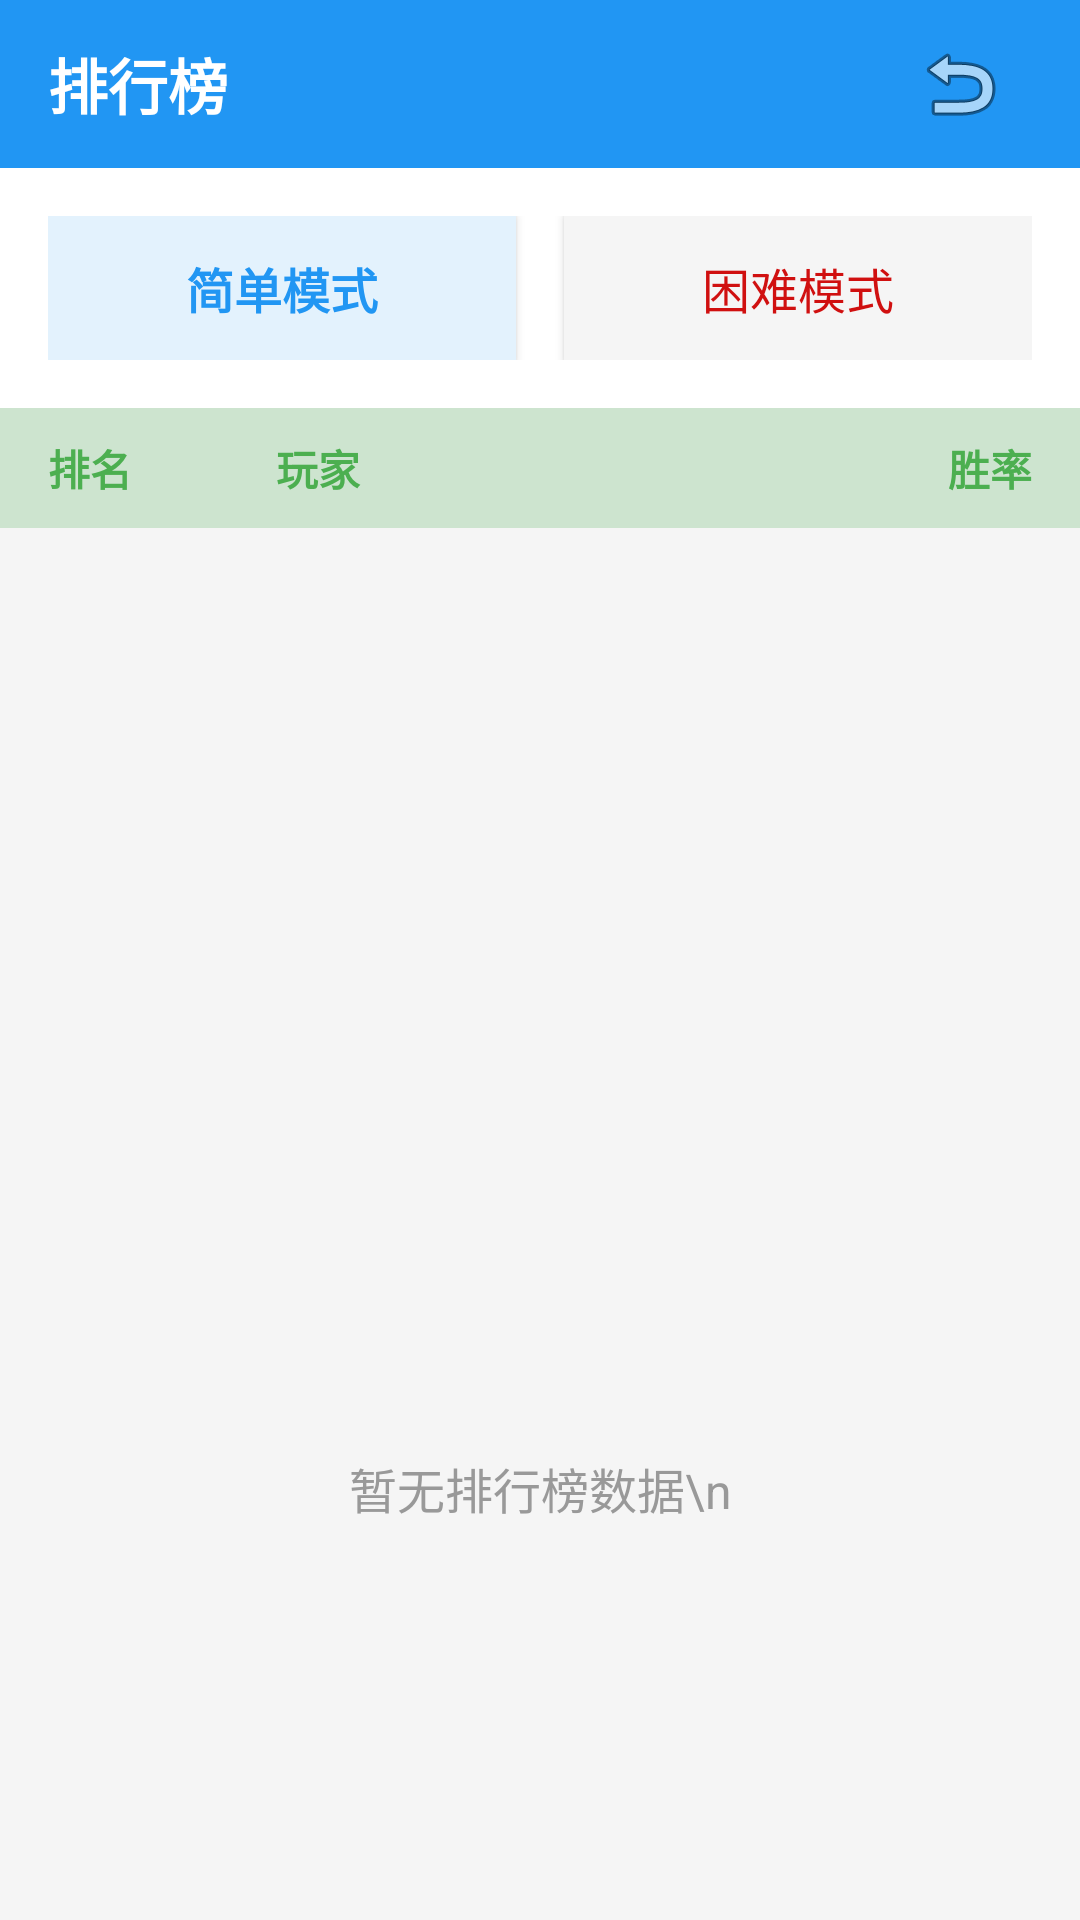

Screen size 1080px×1920px. Icon name, then its center in pixels as (x,y):
返回: (961,84)
